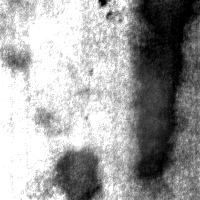patches: (38, 44, 172, 178), (132, 1, 195, 178), (0, 0, 98, 81), (53, 147, 102, 199)
